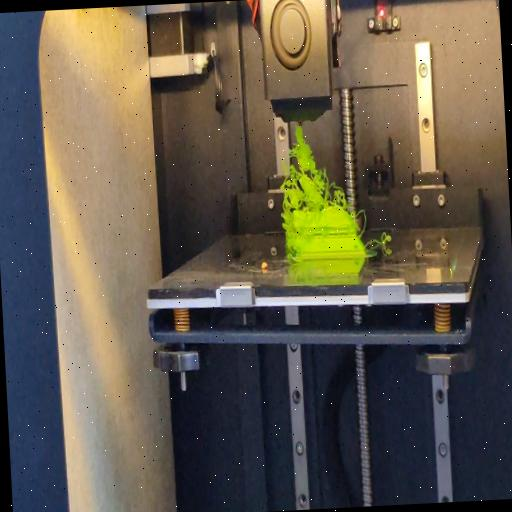spaghetti: (275, 125, 348, 214), (280, 215, 294, 256), (368, 231, 392, 249), (354, 207, 368, 235)
